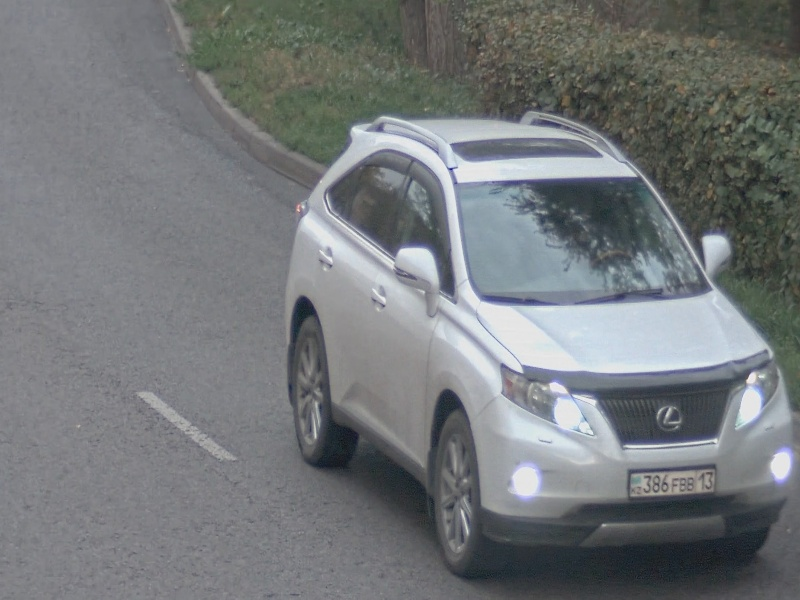plate: (627, 465, 718, 499)
